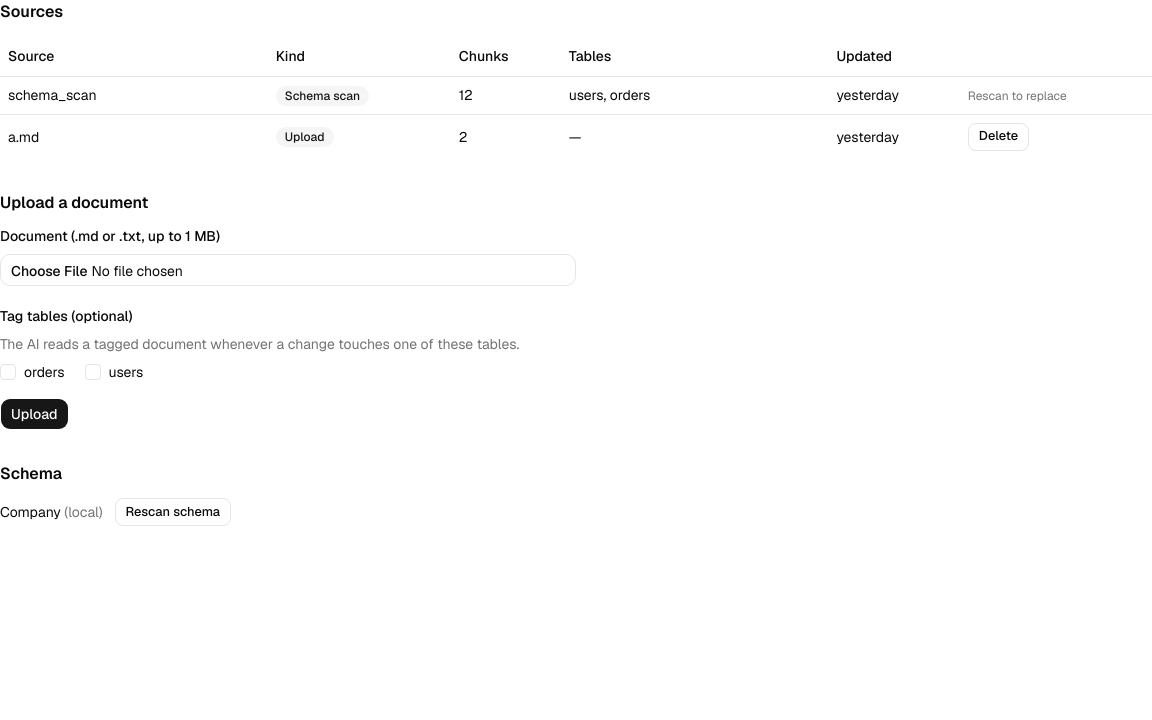
Test: deleting › asks first, and Cancel sends nothing
Check: the table is shown, box [0, 36, 1151, 158]
What coordinates should you click on to do the following:
click the button "Delete"
I would click on:
 (998, 136)
Its box is [968, 122, 1029, 150].
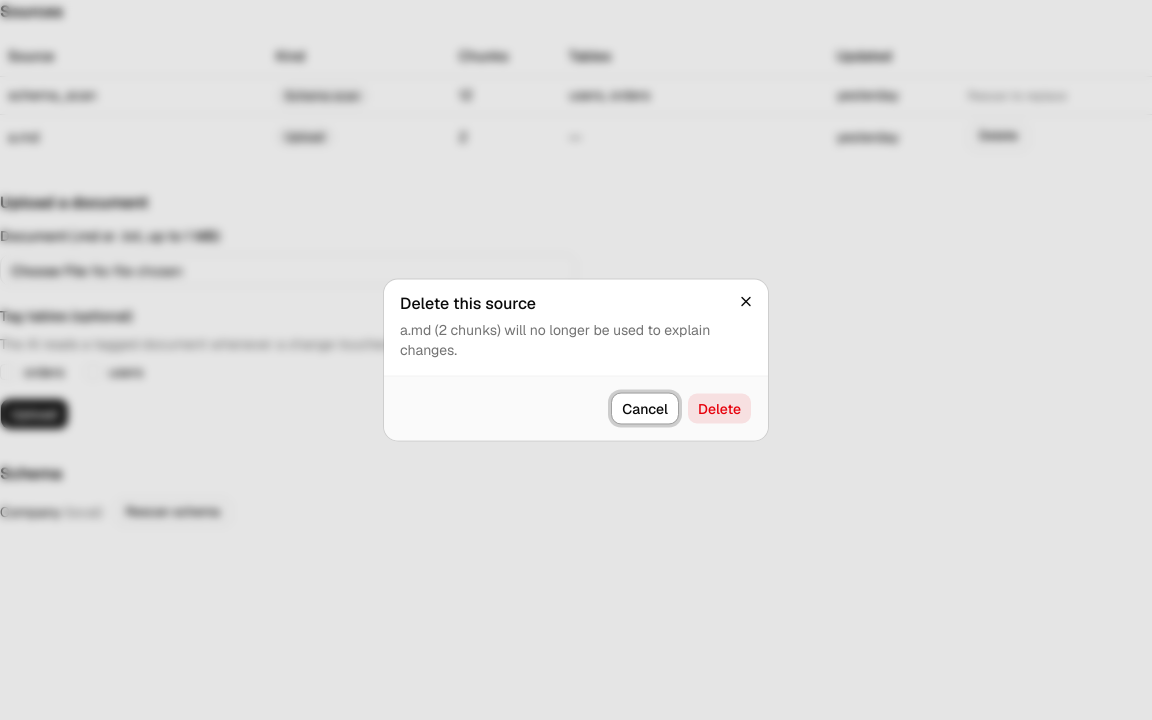
Check: the text "a.md (2 chunks) will no longer be used to explain changes." is shown, box [400, 320, 752, 360]
What coordinates should you click on to do the following:
click the button "Cancel"
I would click on:
 (645, 408)
Its box is [611, 392, 679, 424].
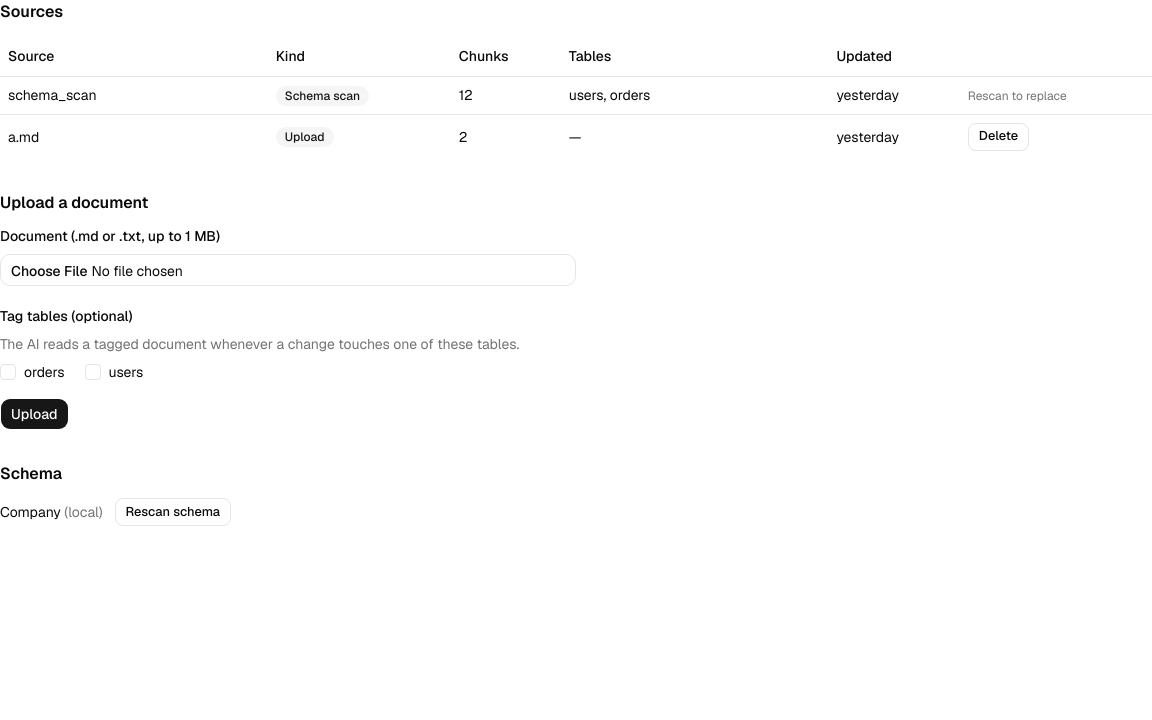
Check: the dialog is gone
